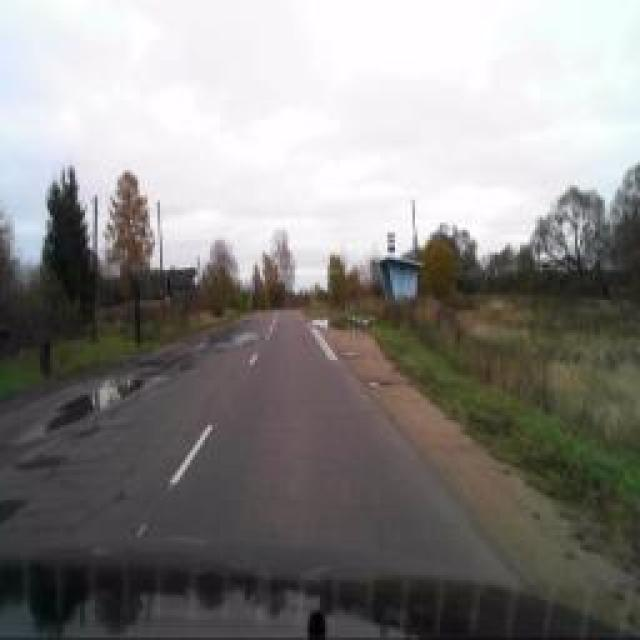sign: (387, 231, 395, 251)
